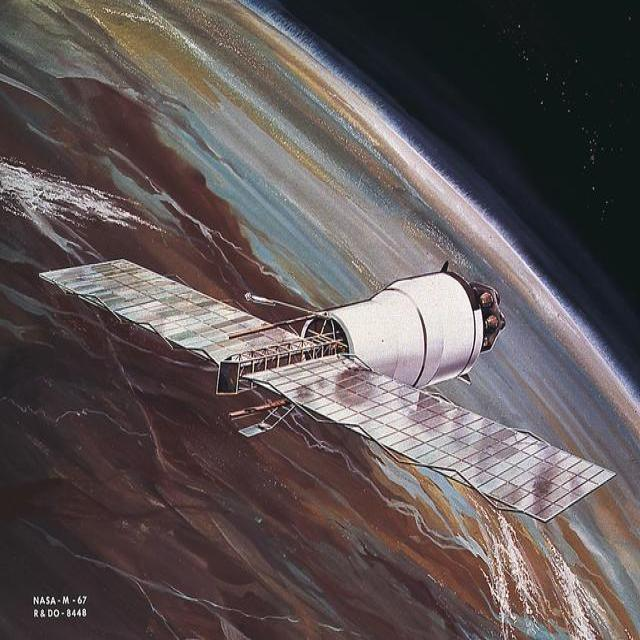satellite: (15, 202, 621, 548)
